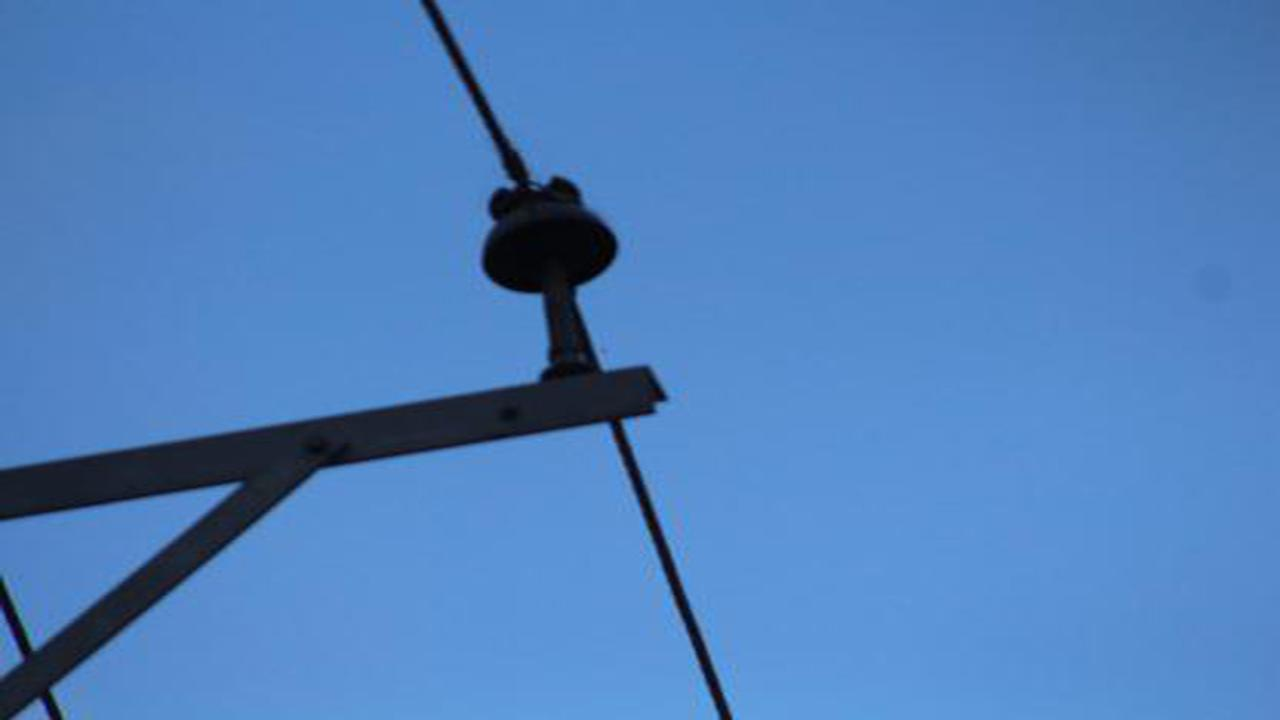insulator_pin: (473, 166, 626, 298)
